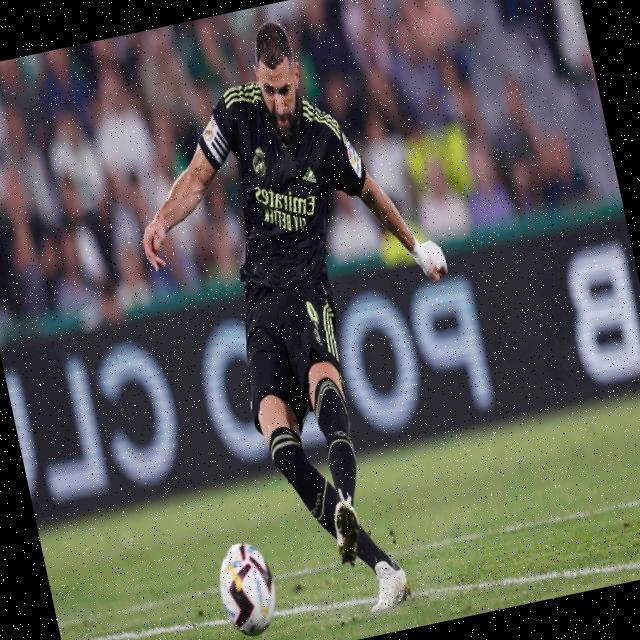Adidas: (301, 165, 316, 185)
Emirates: (253, 174, 319, 226)
